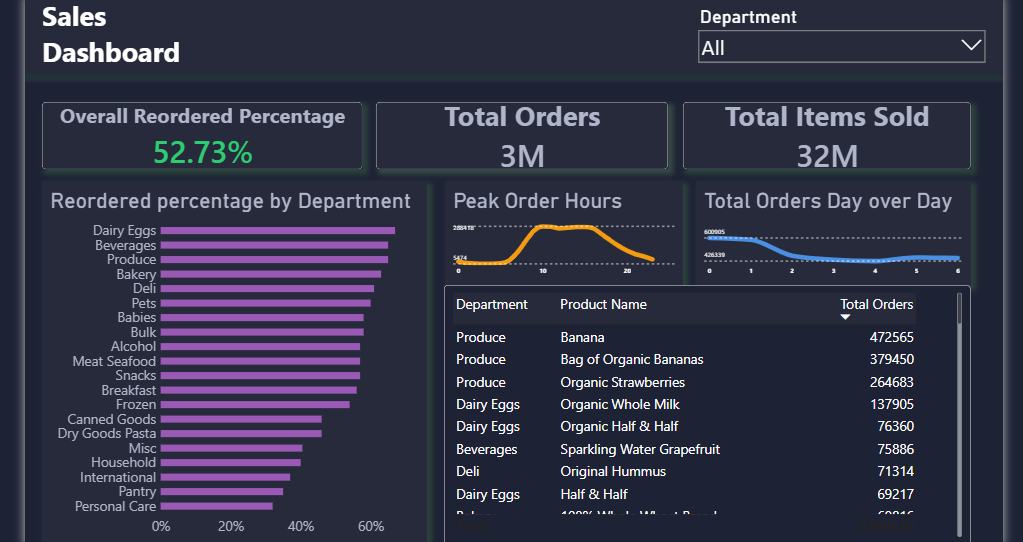

Layout of this report page (visuals, bound fields, positions):
{"tool":"powerbi","page":{"name":"Page 1","canvas":[1920,1080],"ordinal":0},"visuals":[{"type":"shape","box":[0,0,1920,152.8],"z":0},{"type":"cardVisual","fields":{"Data":["public vw_peak_order_times.totals orders"]},"box":[689.5,208.5,573.9,132.1],"z":1000},{"type":"lineChart","title":"Total Orders Day over Day","fields":{"Category":["public vw_peak_order_times.order_dow"],"Y":["public vw_peak_order_times.totals orders"]},"box":[1317.6,362.9,540,205.2],"z":2000},{"type":"lineChart","title":"Peak Order Hours","fields":{"Category":["public vw_peak_order_times.order_hour_of_day"],"Y":["public vw_peak_order_times.totals orders"]},"box":[825.1,362.9,466.6,205.2],"z":3000},{"type":"clusteredBarChart","title":"Reordered percentage by Department","fields":{"Category":["public vw_reordered_percentage.department"],"Y":["Avg(public vw_reordered_percentage.Reordered Percentage)"]},"box":[32.4,362.9,756,717.1],"z":4000},{"type":"textbox","box":[33,0,278.7,152.8],"z":5000},{"type":"cardVisual","fields":{"Data":["Avg(public vw_reordered_percentage.Reordered Percentage)"]},"box":[33,208.5,629.7,132.1],"z":6000},{"type":"cardVisual","fields":{"Data":["public vw_peak_order_times.Total Items Sold"]},"box":[1292.4,208.5,565.7,132.1],"z":7000},{"type":"slicer","fields":{"Values":["public vw_reordered_percentage.department"]},"box":[1317.5,20,572.5,115],"z":8000},{"type":"tableEx","fields":{"Values":["public vw_purchases_optimized.department","public vw_purchases_optimized.product_name","Sum(public vw_purchases_optimized.total_orders)"]},"box":[823.7,567.7,1034.3,512],"z":8001}]}

Visuals, with their boxes on the page's 1920x1080 design canvas (x1, y1, x2, y2). These are canvas units, not pixel positions in the 1023x542 screenshot, which may show the page scaled, cropped or inside an application window:
shape: box(0, 0, 1920, 153)
cardVisual - public vw_peak_order_times.totals orders: box(690, 208, 1263, 341)
"Total Orders Day over Day" lineChart: box(1318, 363, 1858, 568)
"Peak Order Hours" lineChart: box(825, 363, 1292, 568)
"Reordered percentage by Department" clusteredBarChart: box(32, 363, 788, 1080)
textbox: box(33, 0, 312, 153)
cardVisual - Avg(public vw_reordered_percentage.Reordered Percentage): box(33, 208, 663, 341)
cardVisual - public vw_peak_order_times.Total Items Sold: box(1292, 208, 1858, 341)
slicer - public vw_reordered_percentage.department: box(1318, 20, 1890, 135)
tableEx - public vw_purchases_optimized.department x public vw_purchases_optimized.product_name: box(824, 568, 1858, 1080)
